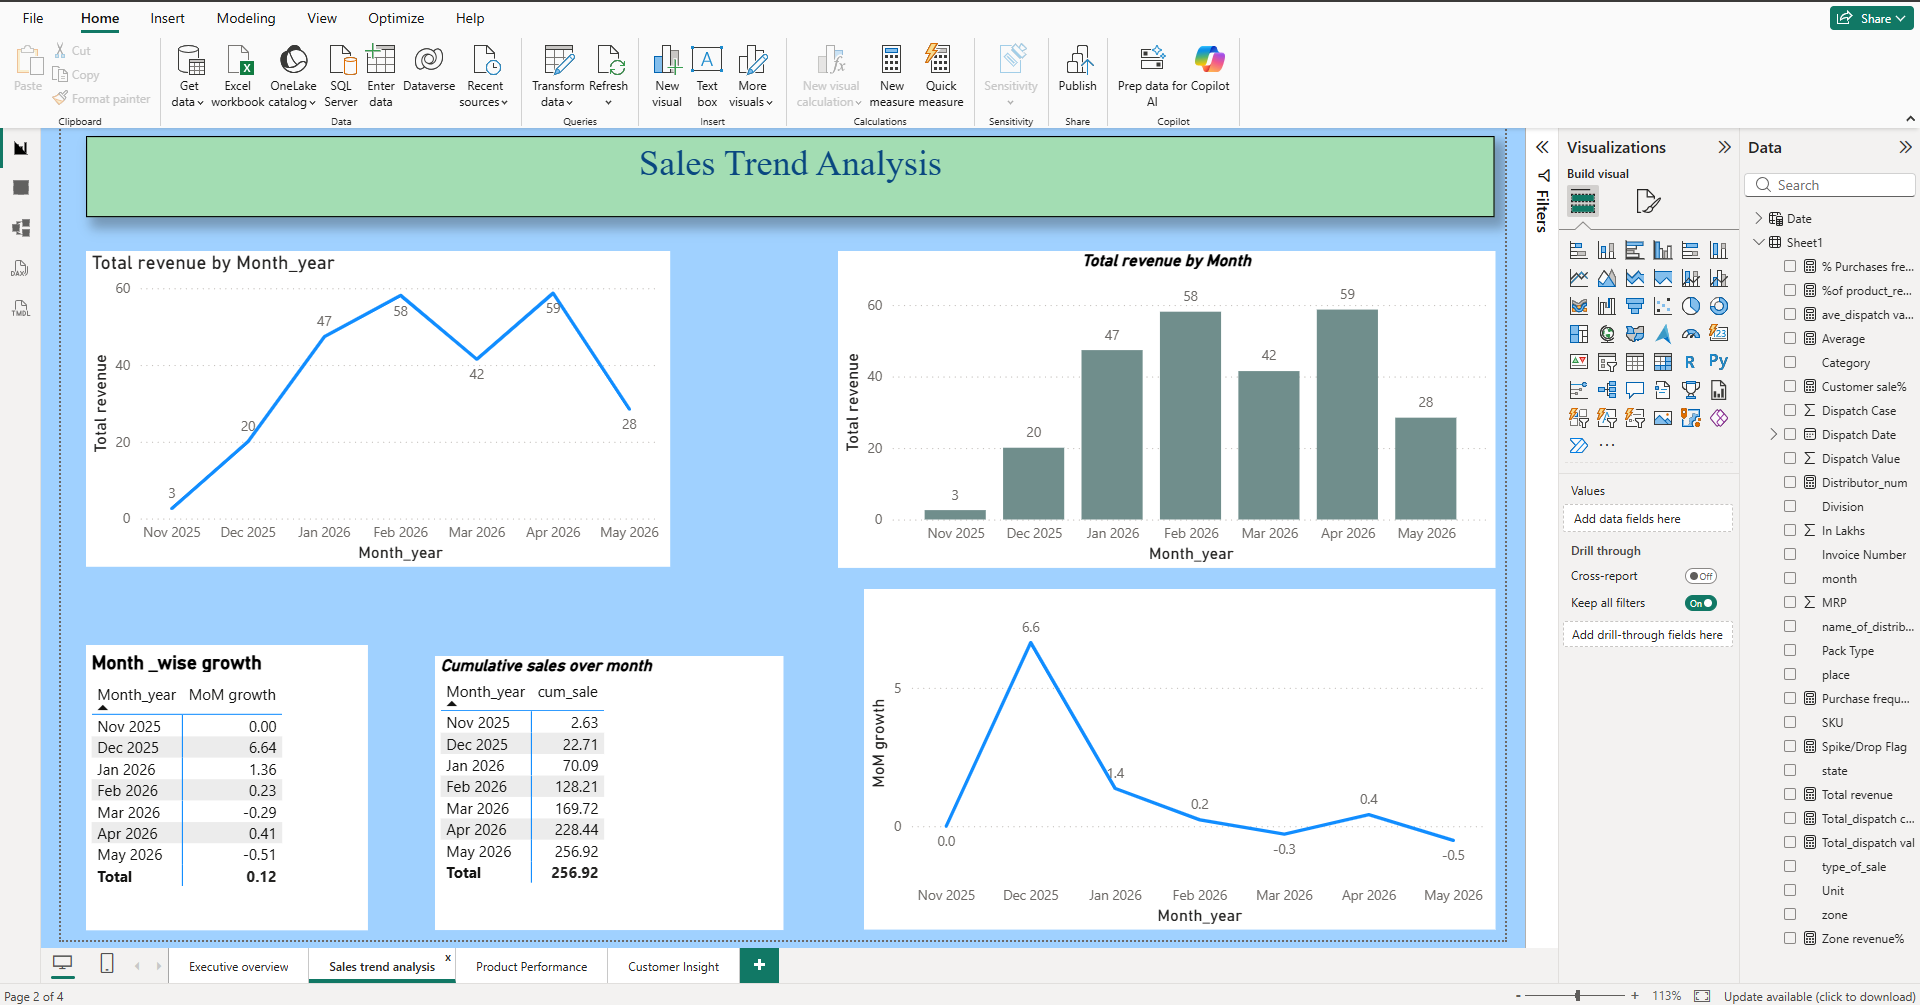

The dashboard page shown, as its layout file describes it:
{"tool":"powerbi","page":{"name":"Sales trend analysis","canvas":[1280,720],"ordinal":1},"visuals":[{"type":"lineChart","fields":{"Y":["Sheet1.Total revenue"],"Category":["Date.Month_year"]},"box":[22.2,109.1,517.8,280.2],"z":0},{"type":"pivotTable","title":"Month _wise growth","fields":{"Values":["Date.MoM growth"],"Rows":["Date.Month_year"]},"box":[22.2,458.4,250,252.7],"z":1000},{"type":"columnChart","title":"Total revenue by Month","fields":{"Y":["Sheet1.Total revenue"],"Category":["Date.Month_year"]},"box":[689,109.1,582.6,281.1],"z":2000},{"type":"pivotTable","title":"Cumulative sales over month ","fields":{"Rows":["Date.Month_year"],"Values":["Date.cum_sale"]},"box":[331.6,468.2,308.6,243],"z":3000},{"type":"lineChart","fields":{"Category":["Date.Month_year"],"Y":["Date.MoM growth"]},"box":[712,408.8,559.5,302.4],"z":4000},{"type":"textbox","box":[22.2,7.1,1249.4,71.8],"z":5000}]}

Visuals, with their boxes on the page's 1280x720 design canvas (x1, y1, x2, y2). These are canvas units, not pixel positions in the 1920x1005 screenshot, which may show the page scaled, cropped or inside an application window:
lineChart - Sheet1.Total revenue x Date.Month_year: bbox=(22, 109, 540, 389)
"Month _wise growth" pivotTable: bbox=(22, 458, 272, 711)
"Total revenue by Month" columnChart: bbox=(689, 109, 1272, 390)
"Cumulative sales over month " pivotTable: bbox=(332, 468, 640, 711)
lineChart - Date.Month_year x Date.MoM growth: bbox=(712, 409, 1272, 711)
textbox: bbox=(22, 7, 1272, 79)
